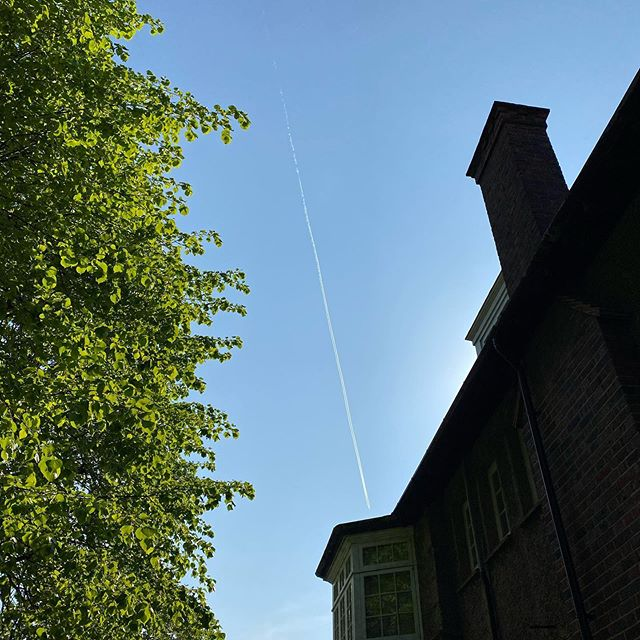building: (325, 113, 640, 621)
sky: (207, 1, 626, 619)
tree: (4, 7, 222, 632)
